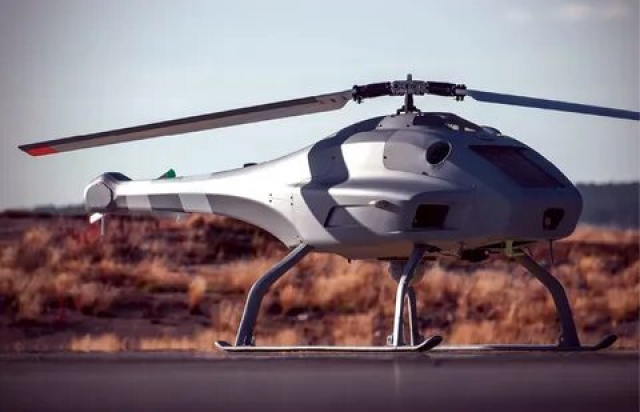military drone: (17, 73, 640, 352)
